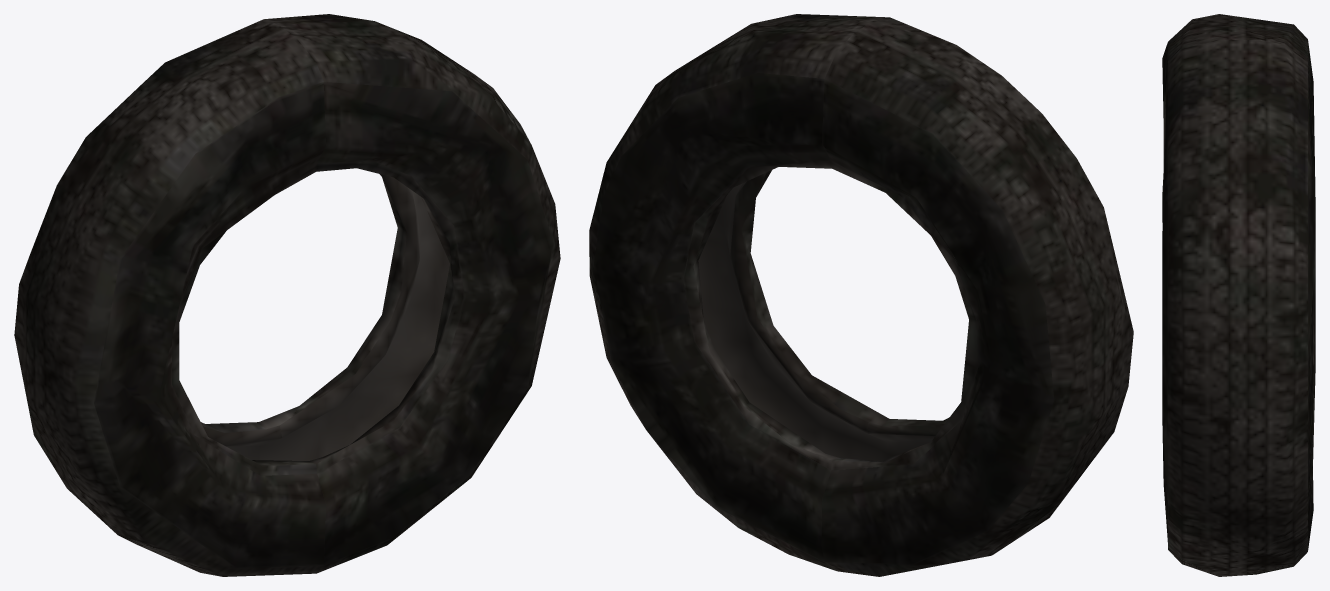
The model's file is old_tyre.glb.
3 renders of one model, left to right at view 1: azimuth 30°, elevation 25°; view 2: azimuth 150°, elevation 25°; view 3: azimuth 270°, elevation 25°, orthographic. The views are drawn at different scales.
Parts seen in each view (by area): view 1: old_tyre; view 2: old_tyre; view 3: old_tyre.
Part boxes in pixels (bbox=[...]): old_tyre: bbox=[14, 14, 560, 576]; old_tyre: bbox=[589, 14, 1133, 576]; old_tyre: bbox=[1162, 14, 1315, 576].
Size of the model in its own units: 0.5942 by 0.6 by 0.1632.
1 material, 1 textured.
